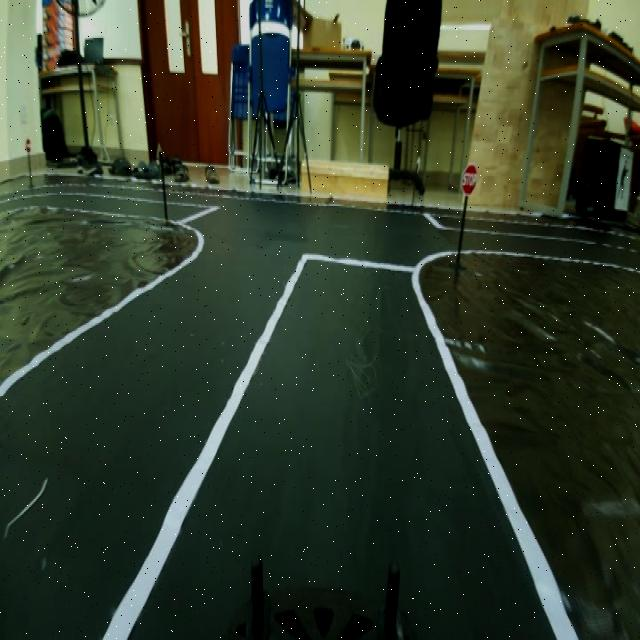stop: (460, 157, 480, 201)
